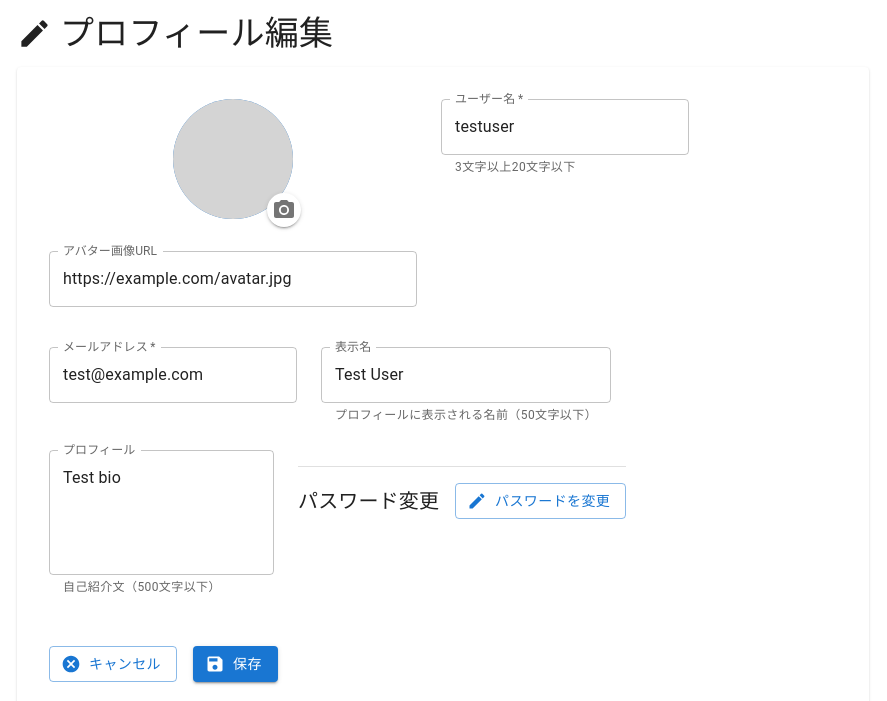
Test case: ProfileEdit › validates email field
The image size is (887, 701).
Clear the field showing "test@example.com" at [173, 375], box [49,347,297,403]
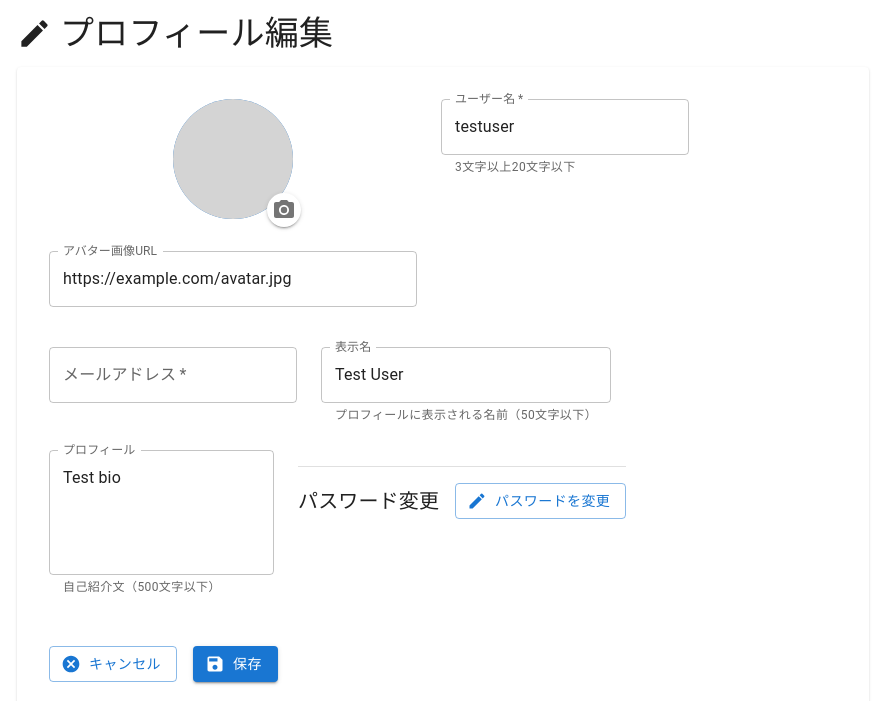
Click the button "保存".
click(235, 664)  # box [193,646,278,682]
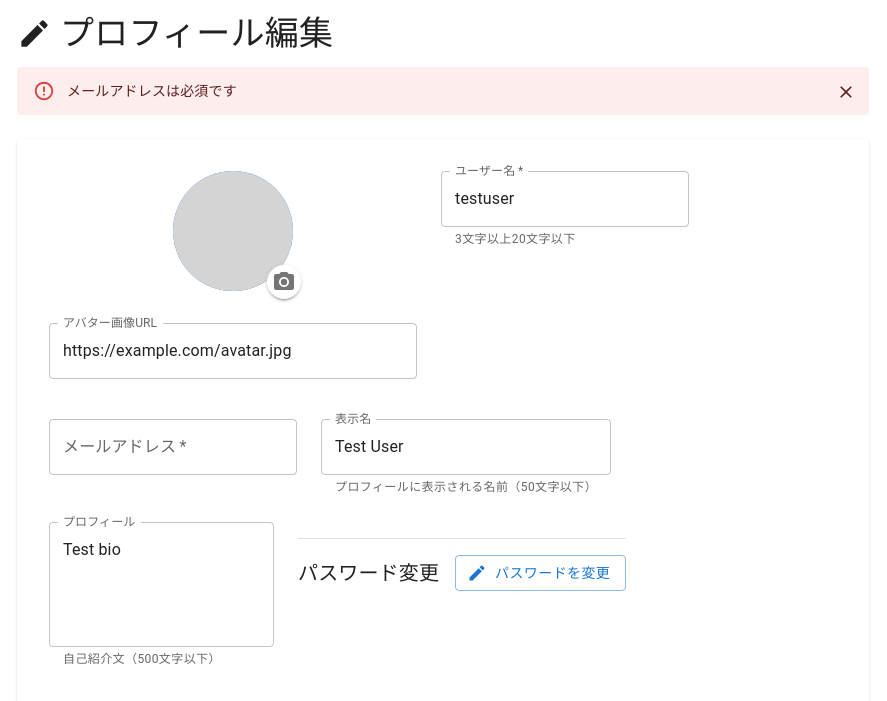
Now the text "メールアドレスは必須です" is shown, box [67,83,237,99]
